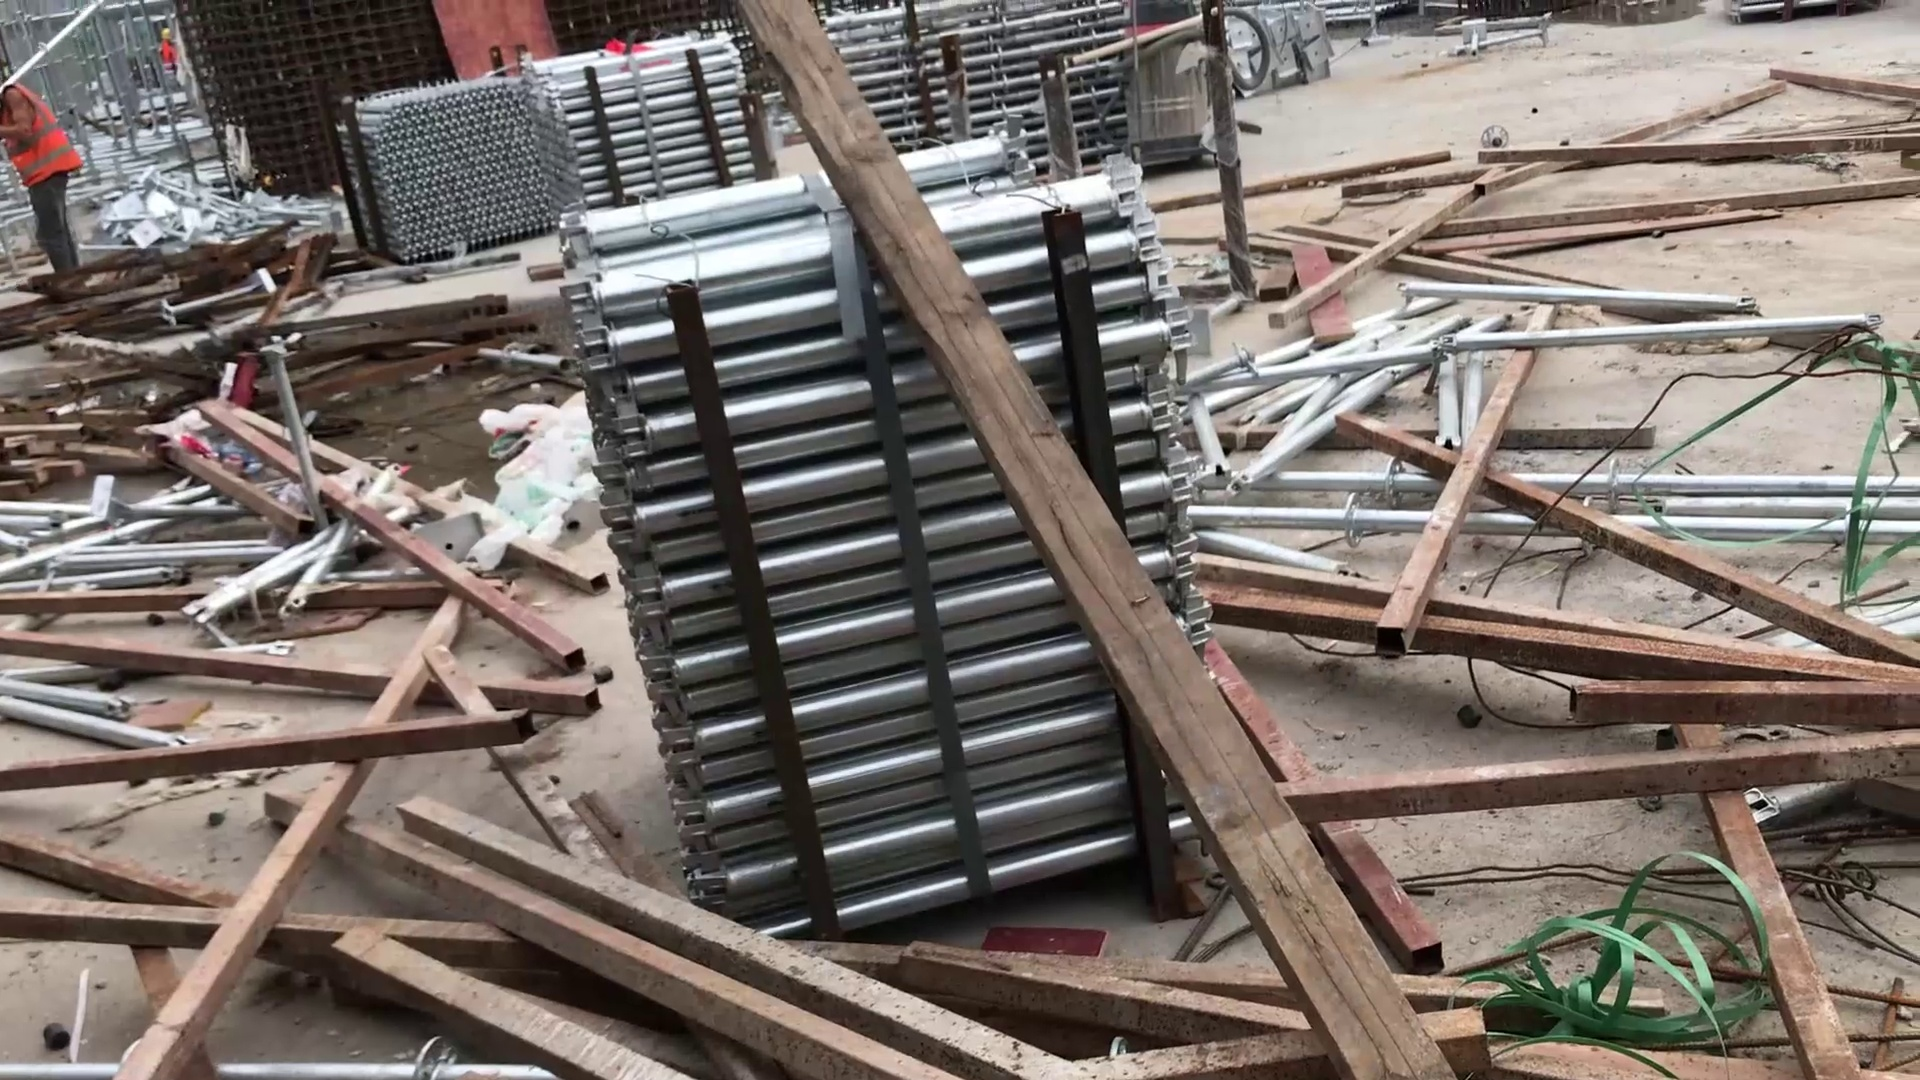person: (6, 62, 78, 269), (155, 30, 178, 84)
scaffold: (543, 145, 1218, 902), (837, 6, 1141, 166), (352, 81, 564, 265), (527, 47, 766, 193)
vest: (2, 81, 80, 183), (157, 45, 172, 65)
